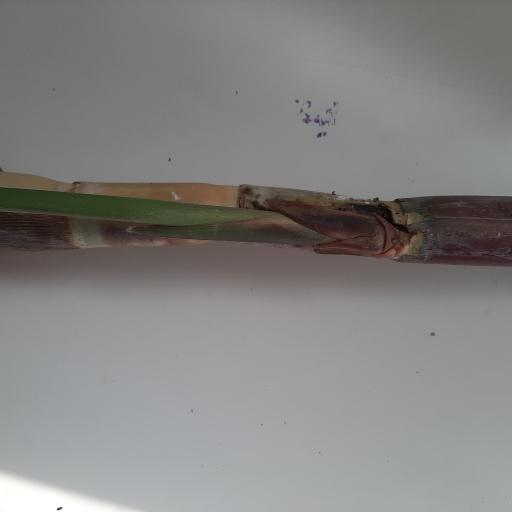Sprouted_Bud: (323, 221, 416, 259)
